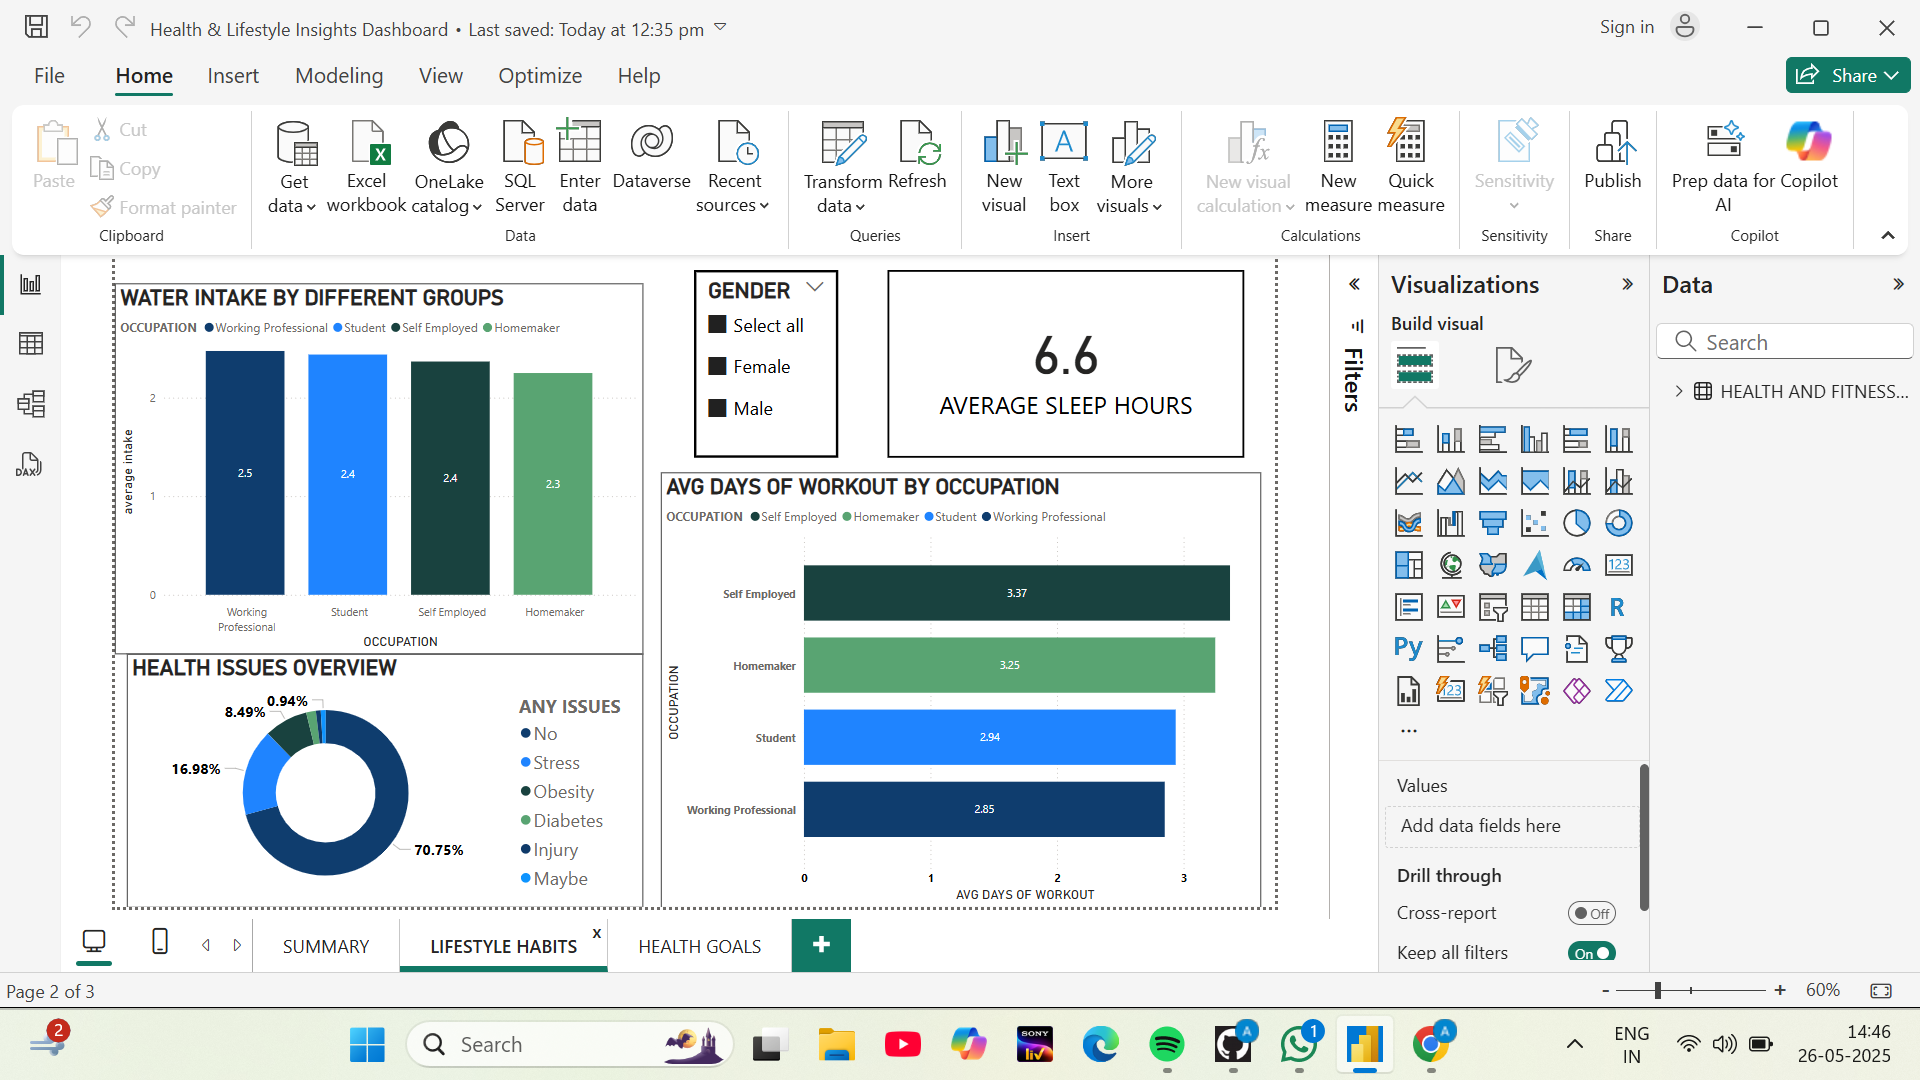

The page's visual inventory and layout, read from the dashboard file:
{"tool":"powerbi","page":{"name":"LIFESTYLE HABITS","canvas":[1280,720],"ordinal":1},"visuals":[{"type":"card","fields":{"Values":["HEALTH AND FITNESS SURVEY.AVERAGE SLEEP"]},"box":[853.1,16.6,394.2,207.1],"z":0},{"type":"barChart","title":"AVG DAYS OF WORKOUT BY OCCUPATION","fields":{"Category":["HEALTH AND FITNESS SURVEY.EMPLOYMENT STATUS"],"Series":["HEALTH AND FITNESS SURVEY.EMPLOYMENT STATUS"],"Y":["HEALTH AND FITNESS SURVEY.avg workout days"]},"box":[603,240.2,662.6,480.4],"z":1000},{"type":"slicer","fields":{"Values":["HEALTH AND FITNESS SURVEY.GENDER"]},"box":[639.4,16.6,159,207.1],"z":2000},{"type":"columnChart","title":"WATER INTAKE BY DIFFERENT GROUPS","fields":{"Category":["HEALTH AND FITNESS SURVEY.EMPLOYMENT STATUS"],"Series":["HEALTH AND FITNESS SURVEY.EMPLOYMENT STATUS"],"Y":["HEALTH AND FITNESS SURVEY.average intake"]},"box":[0,31.5,583.1,409.2],"z":3000},{"type":"donutChart","title":"HEALTH ISSUES OVERVIEW","fields":{"Category":["HEALTH AND FITNESS SURVEY.Do you face any health issues due to lifestyle?"],"Y":["CountNonNull(HEALTH AND FITNESS SURVEY.AGE)"]},"box":[13.3,440.6,569.8,279.9],"z":4000}]}

Visuals, with their boxes on the page's 1280x720 design canvas (x1, y1, x2, y2). These are canvas units, not pixel positions in the 1920x1080 screenshot, which may show the page scaled, cropped or inside an application window:
card - HEALTH AND FITNESS SURVEY.AVERAGE SLEEP: detection(853, 17, 1247, 224)
"AVG DAYS OF WORKOUT BY OCCUPATION" barChart: detection(603, 240, 1266, 721)
slicer - HEALTH AND FITNESS SURVEY.GENDER: detection(639, 17, 798, 224)
"WATER INTAKE BY DIFFERENT GROUPS" columnChart: detection(0, 32, 583, 441)
"HEALTH ISSUES OVERVIEW" donutChart: detection(13, 441, 583, 720)
